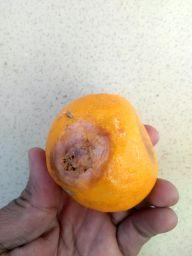Unripe: (46, 95, 161, 212)
